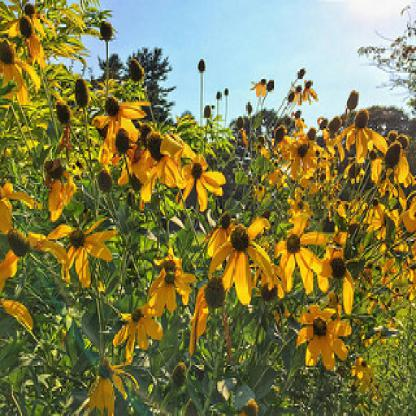SUN FLOWER: (5, 6, 413, 412)
